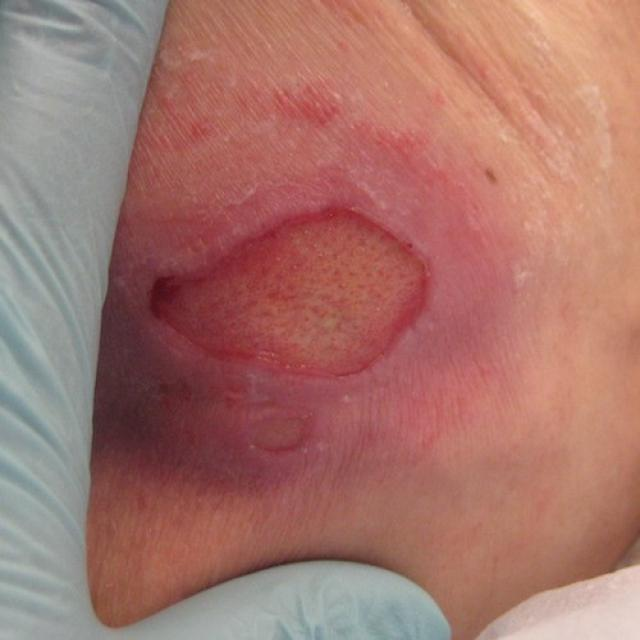stage-2: (155, 206, 421, 376)
